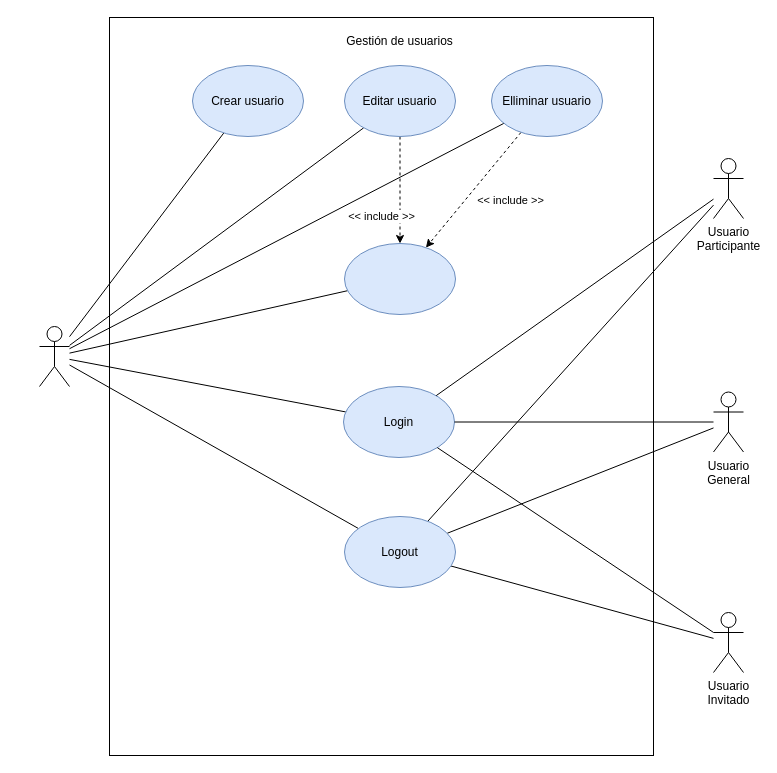
Some shapes in this 777 by 773 pixel diagram are drawn without their labels. The centre of each missing label's shape, as x and y in pixels:
"Consultar la información de un usuario" goes at (400,278).
"Usuario Administrador" goes at (54,356).
